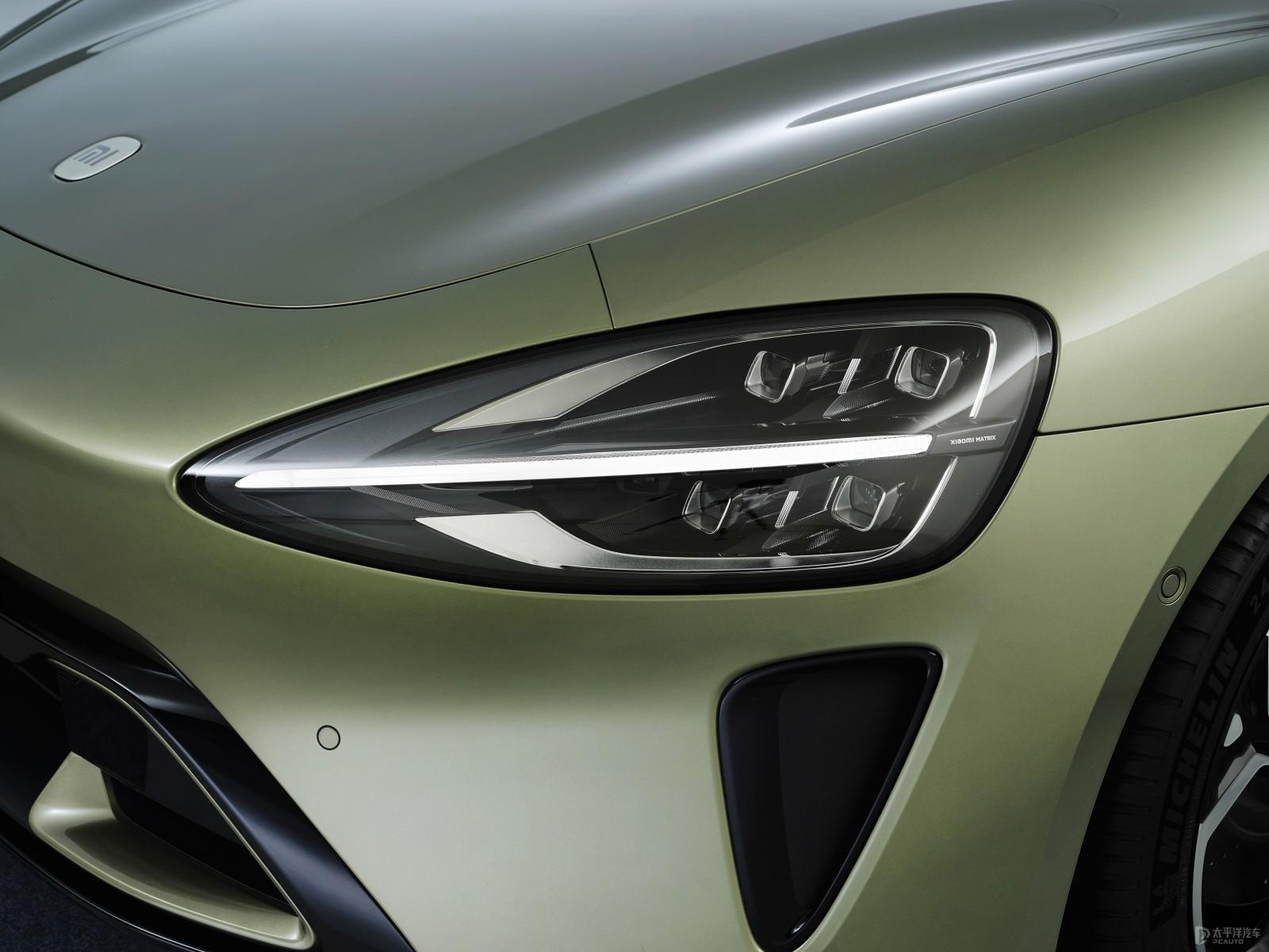XIAOMI: (53, 135, 140, 182)
